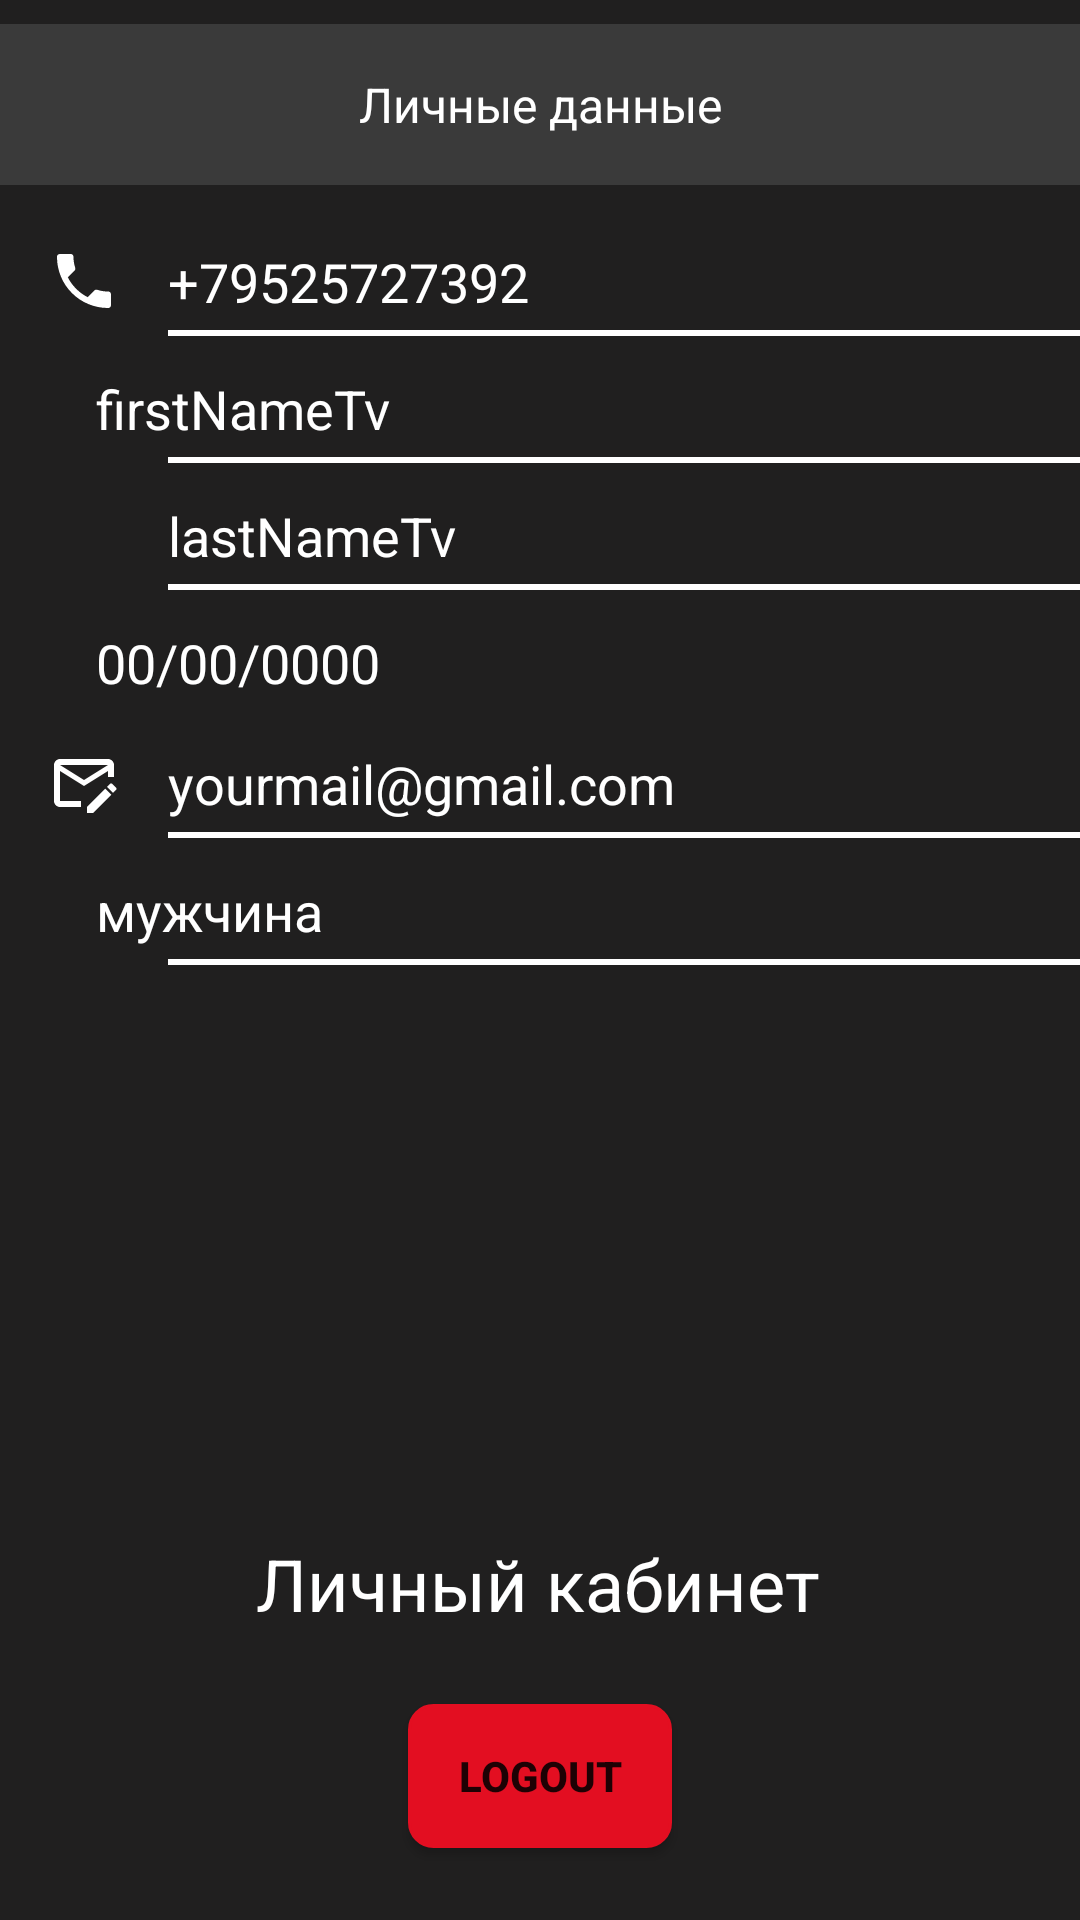

Icons on this 1080px×1920px Android screen, each with the point to tap as point (x, y):
email edit: point (85, 786)
phone: point (84, 281)
